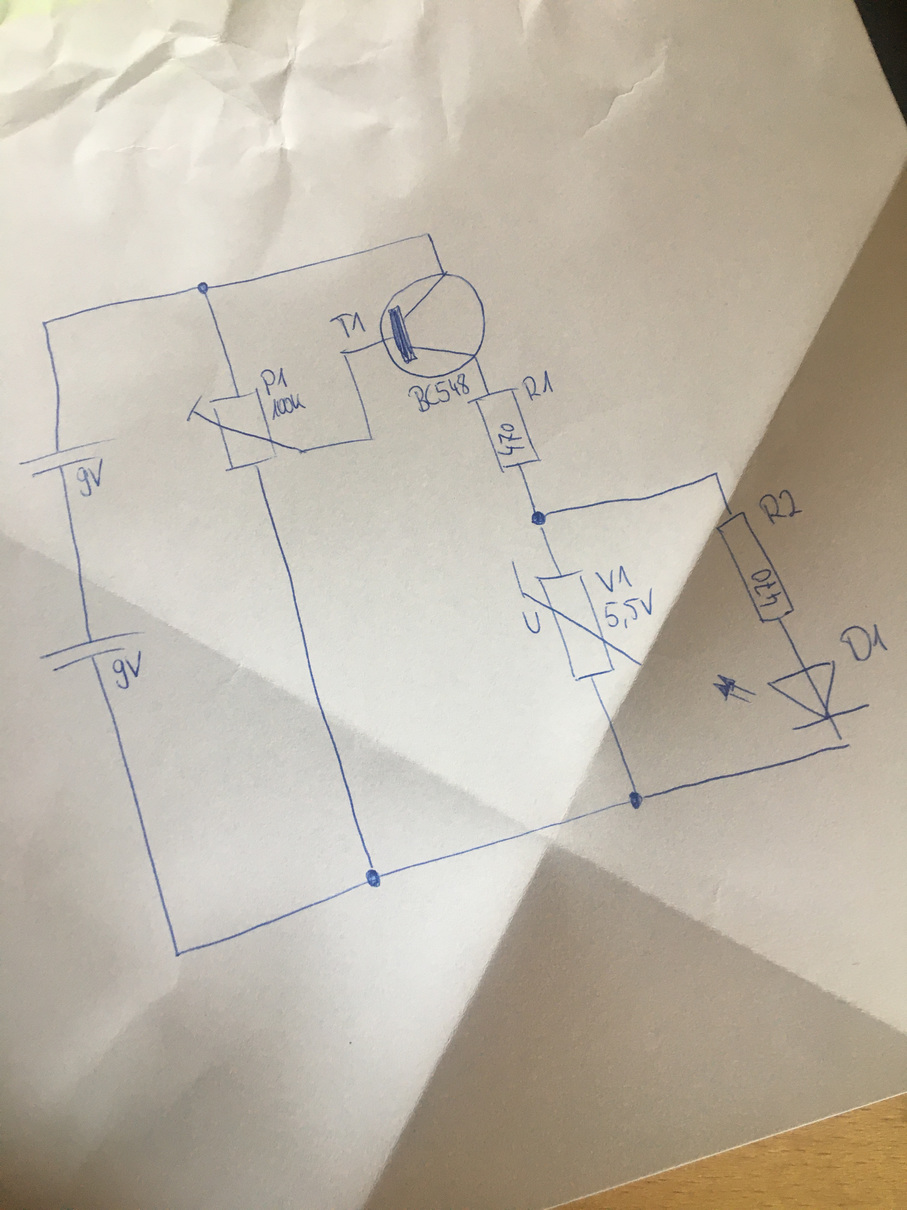diode.light_emitting: (711, 658, 873, 733)
junction: (625, 787, 651, 812), (361, 864, 385, 889), (529, 505, 552, 531), (835, 734, 854, 752), (195, 279, 211, 296), (170, 945, 186, 962), (337, 347, 351, 362), (365, 431, 379, 445), (38, 316, 51, 330), (422, 229, 436, 241), (711, 468, 723, 481)
resistor: (712, 509, 798, 626), (466, 385, 543, 476)
resistor.adjustable: (184, 386, 305, 473)
text: (406, 372, 470, 413), (602, 587, 655, 630), (837, 620, 890, 663), (757, 486, 806, 526), (109, 649, 146, 692), (749, 567, 783, 609), (594, 562, 636, 593), (74, 456, 104, 498), (328, 309, 368, 339), (520, 369, 555, 403), (495, 422, 527, 458), (270, 392, 307, 421), (259, 365, 290, 395), (519, 608, 544, 636)
transistor: (378, 270, 487, 380)
varistor: (510, 558, 646, 683)
voltage.dc: (36, 629, 148, 672), (17, 434, 111, 479)
